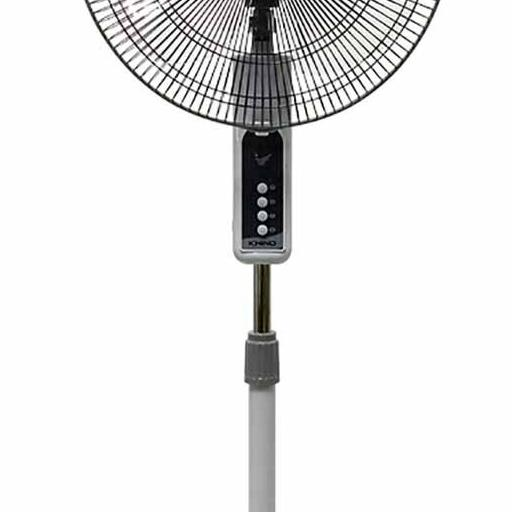Fan: (68, 0, 455, 132)
